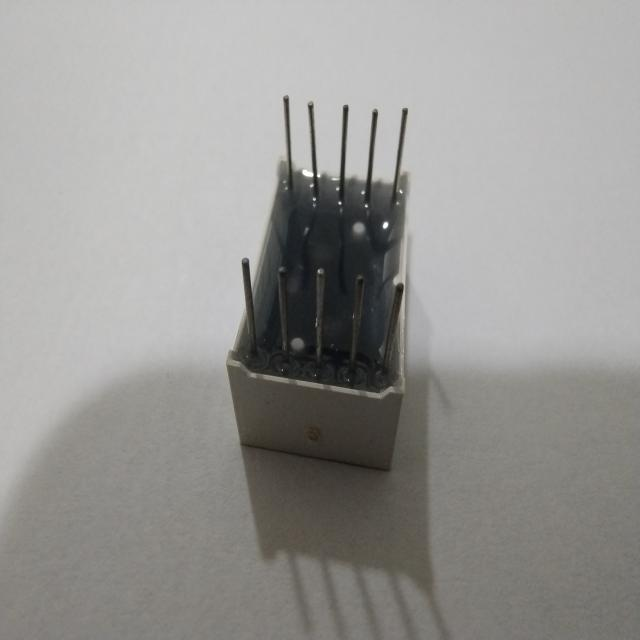7_segments: (218, 86, 423, 483)
